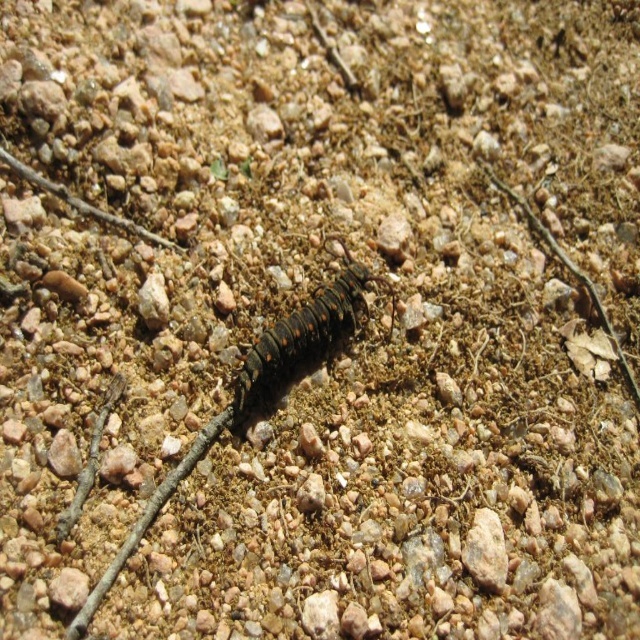Centipede: (226, 239, 394, 413)
